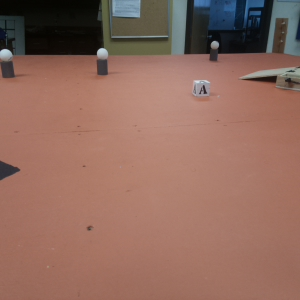blockA: (189, 78, 216, 99)
corner: (272, 16, 286, 55)
obstacle: (1, 48, 17, 79), (95, 48, 111, 74), (208, 41, 221, 61)
side: (282, 75, 300, 89)
slope: (238, 65, 278, 84)
start: (1, 161, 21, 186)
